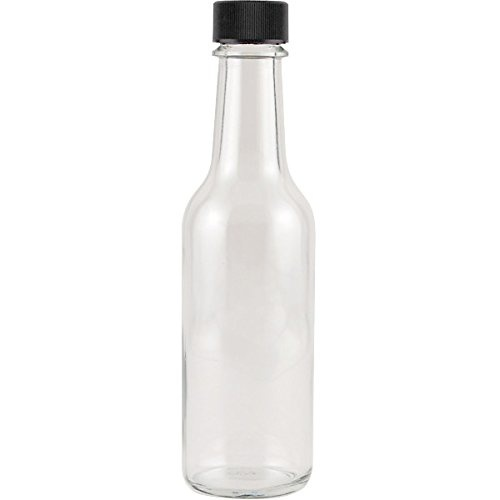emptybottle: (183, 1, 314, 498)
